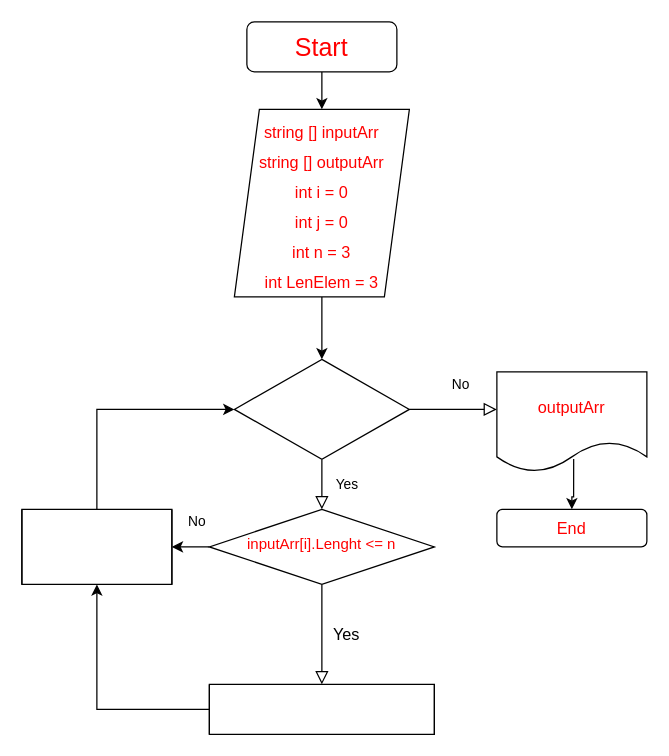
The diagram is 669 pixels wide and 756 high, and some of its shapes have lost their labels. Each missing label, with the box of its shape:
i < inputArr.Lenght: (233, 358, 409, 459)
j++: (21, 508, 172, 584)
outputArr[j] = inputArr[i]: (208, 683, 434, 734)
